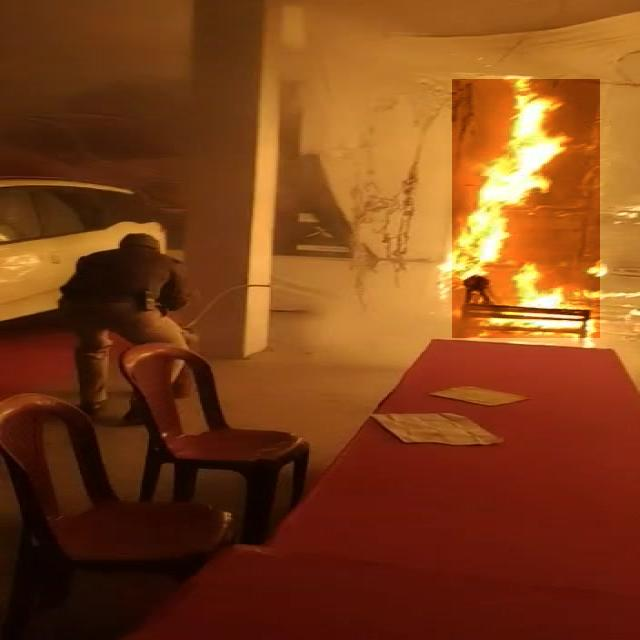Fire: (452, 79, 600, 338)
